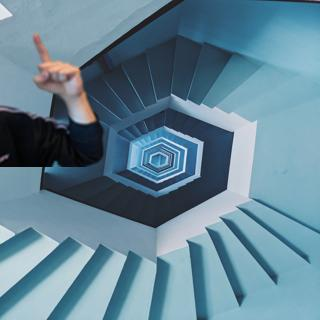IRRITATED: (26, 31, 84, 99)
